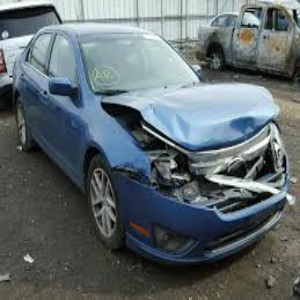bumper: (104, 215, 196, 272)
tail_lights: (125, 112, 202, 172)
